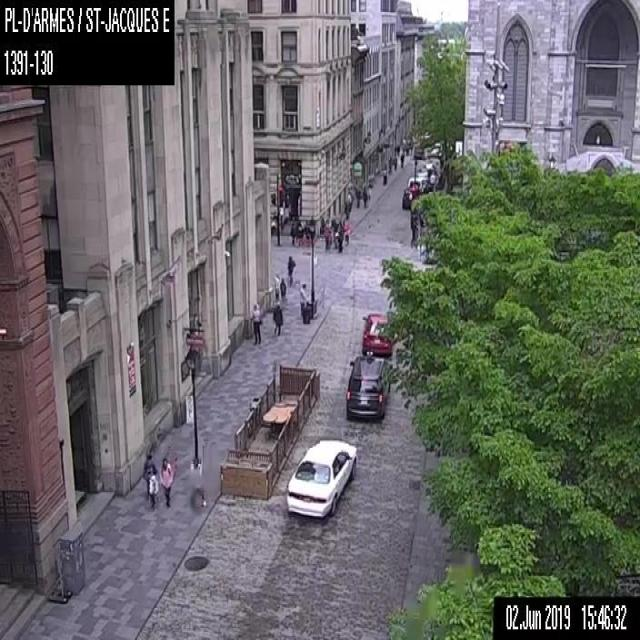pedestrian: (159, 457, 174, 508), (142, 453, 157, 496), (251, 302, 262, 344), (272, 299, 282, 336), (286, 253, 296, 289), (299, 281, 309, 317), (148, 474, 157, 509), (334, 223, 344, 253), (278, 275, 286, 303), (273, 270, 279, 302), (354, 184, 362, 207), (296, 222, 303, 246), (289, 221, 295, 245), (362, 185, 368, 207), (399, 153, 404, 167)
vehicle: (284, 436, 356, 517), (344, 350, 392, 420), (361, 312, 393, 354), (407, 176, 426, 193), (402, 186, 416, 209), (412, 152, 423, 161)
